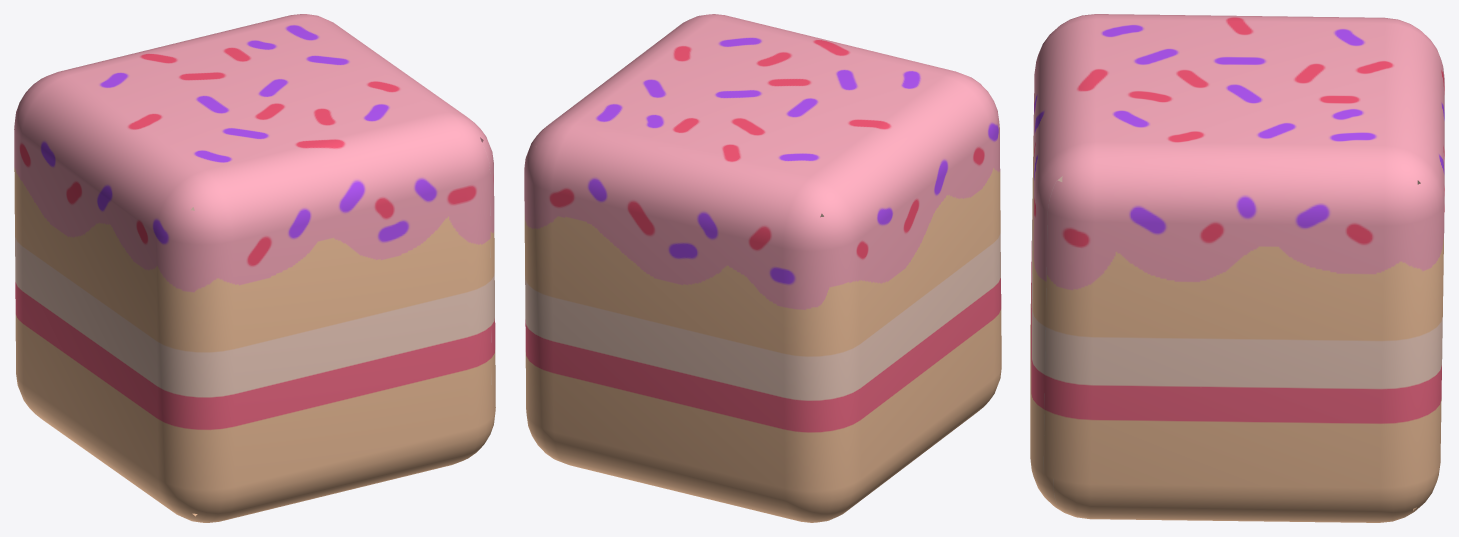
File: block_cake.fbx
3 renders of one model, left to right at view 1: azimuth 30°, elevation 25°; view 2: azimuth 150°, elevation 25°; view 3: azimuth 270°, elevation 25°, orthographic. The views are drawn at different scales.
Visible parts, largest first — view 1: 큐브; view 2: 큐브; view 3: 큐브.
Boxes of the visible parts, x1,y1,x2,y2 form: 큐브: (14,14,495,522); 큐브: (524,14,1001,522); 큐브: (1030,14,1444,522).
Bounding box in the file's own units: 30398 × 30703 × 30703.
Materials: 1 (1 with a texture image).
